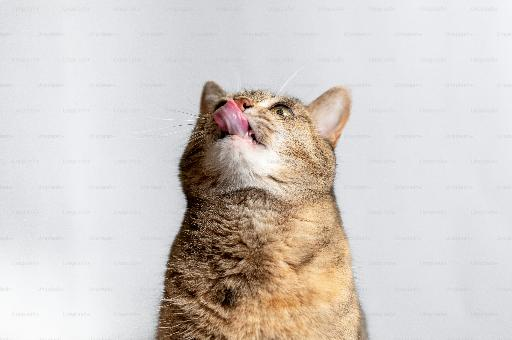cat_eating: (156, 82, 367, 340)
